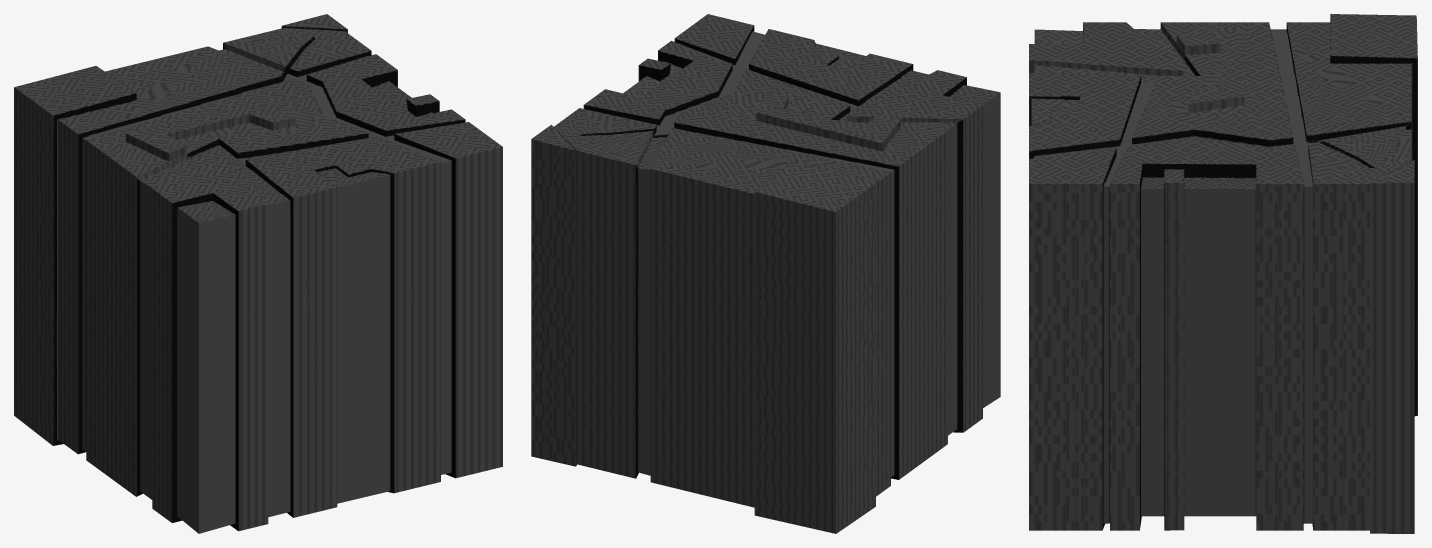
The model's file is CubeForFallGame5.fbx.
3 views of the same model, side by side, from view 1: azimuth 30°, elevation 25°; view 2: azimuth 150°, elevation 25°; view 3: azimuth 270°, elevation 25° (orthographic). The views are drawn at different scales.
Parts seen in each view (by area): view 1: Cube.001; view 2: Cube.001; view 3: Cube.001.
Part boxes in pixels (x1,y1,x2,y2): Cube.001: (14, 14, 502, 533); Cube.001: (531, 14, 1000, 533); Cube.001: (1029, 14, 1417, 533).
Size of the model in its own units: 102 by 105 by 102.
1 material, 1 textured.
